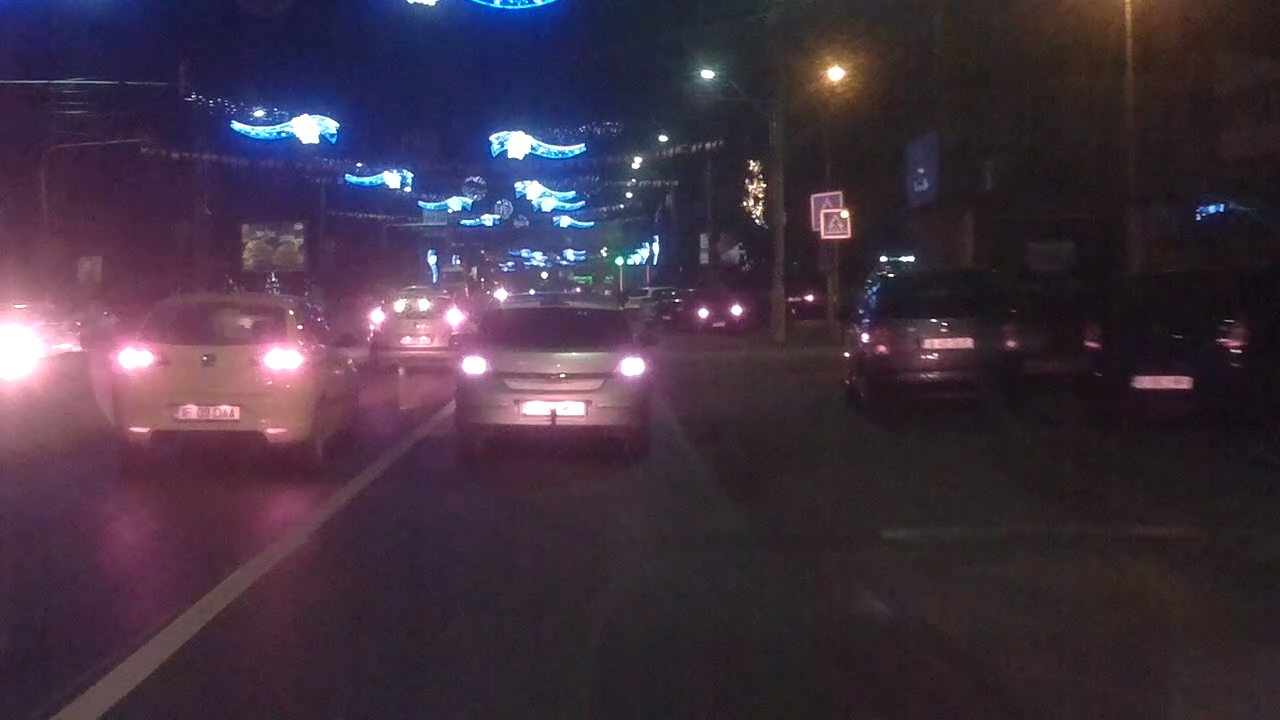license-plate: (168, 401, 243, 423)
